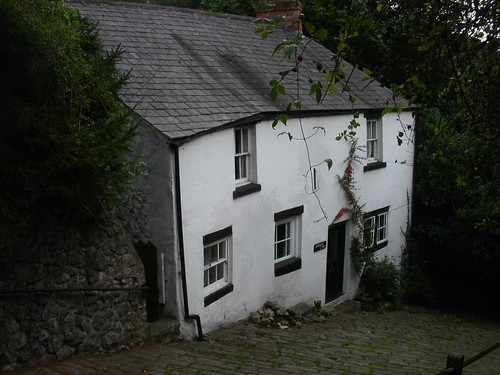high: (12, 1, 425, 338)
